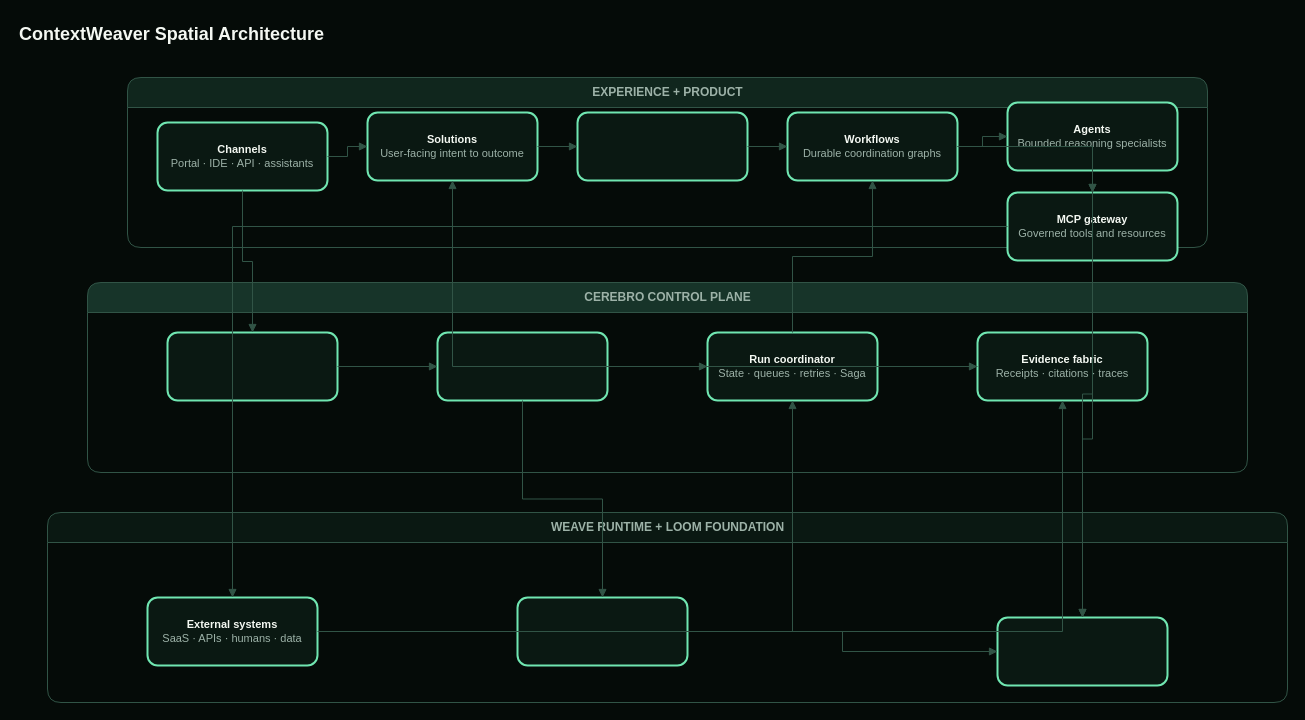
The diagram is 1305 pixels wide and 720 high, and some of its shapes have lost their labels. The centre of each missing label's shape, as x and y in pixels:
"Intent + identity Purpose · tenant · delegation" belongs at pixel 252 366.
"Knowledge + models Data · memory · enterprise systems" belongs at pixel 1082 651.
"Loom foundation Kubernetes · state · events · secrets" belongs at pixel 602 631.
"Policy + compiler Authorize · resolve · freeze plan" belongs at pixel 522 366.
"Services Reusable executable contracts" belongs at pixel 662 146.
